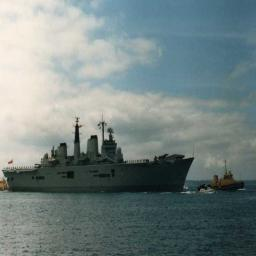Portanaves: (2, 114, 197, 195)
